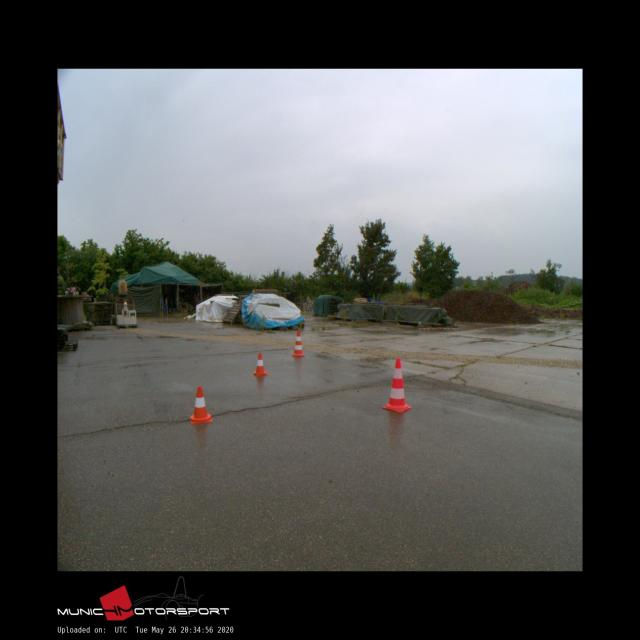large_orange_cone: (382, 358, 411, 412), (292, 329, 305, 356)
orange_cone: (190, 386, 212, 423), (253, 353, 268, 375)
